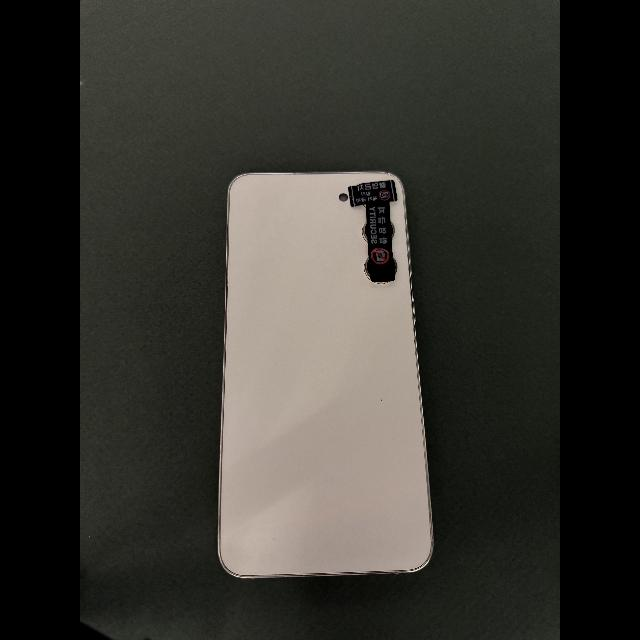lens: (364, 258, 370, 281), (362, 222, 367, 243)
phone: (218, 171, 433, 578)
sticker: (366, 202, 395, 283), (348, 180, 397, 207)
